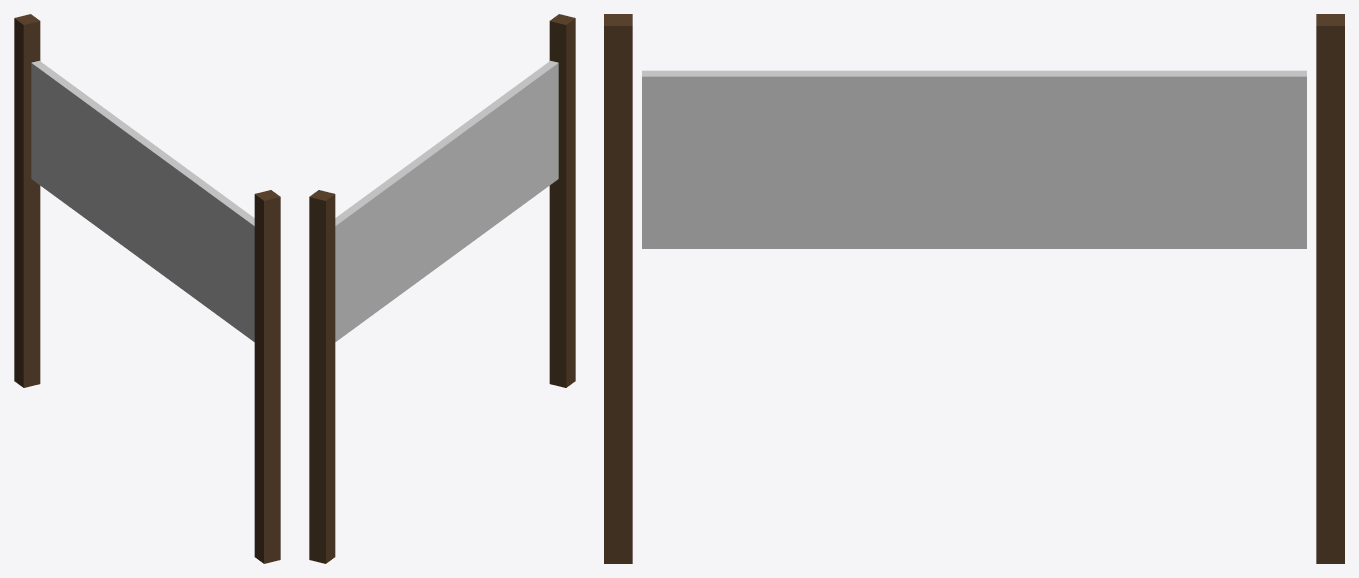
File: banner.obj
3 views of the same model, side by side, from view 1: azimuth 30°, elevation 25°; view 2: azimuth 150°, elevation 25°; view 3: azimuth 270°, elevation 25° (orthographic). The views are drawn at different scales.
Bounding box in the file's own units: 0.12 × 2.5 × 3.12.
